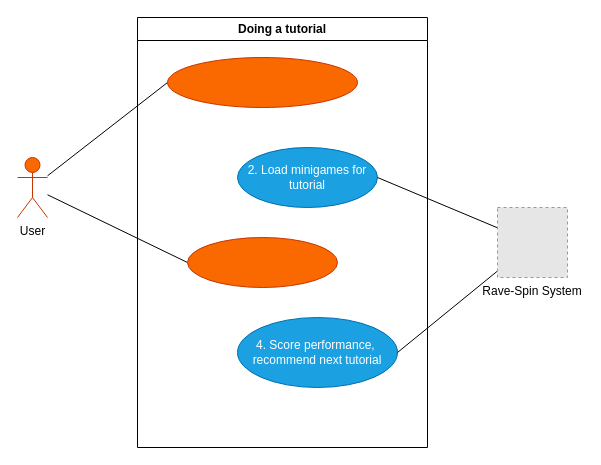
Some shapes in this 601 by 465 pixel diagram are drawn without their labels. Grey dashed boxes stand in for pictures. The centre of each missing label's shape, as x and y in pixels:
1. Choose tutorial (Music Theory, FX, etc...): the point at 262,82
3. Completes tutorials: the point at 262,262
